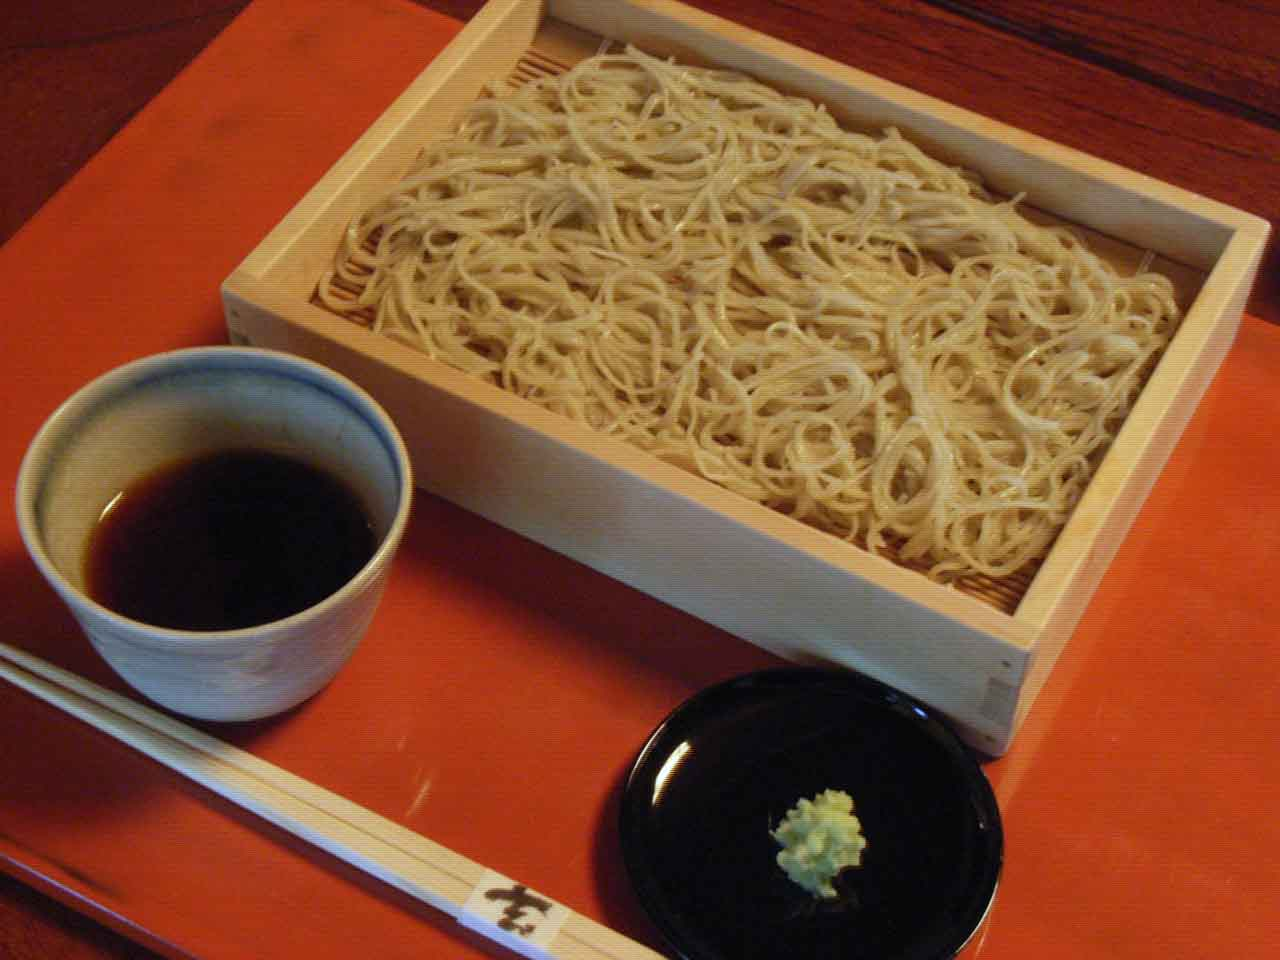Soba: (339, 54, 1158, 577)
